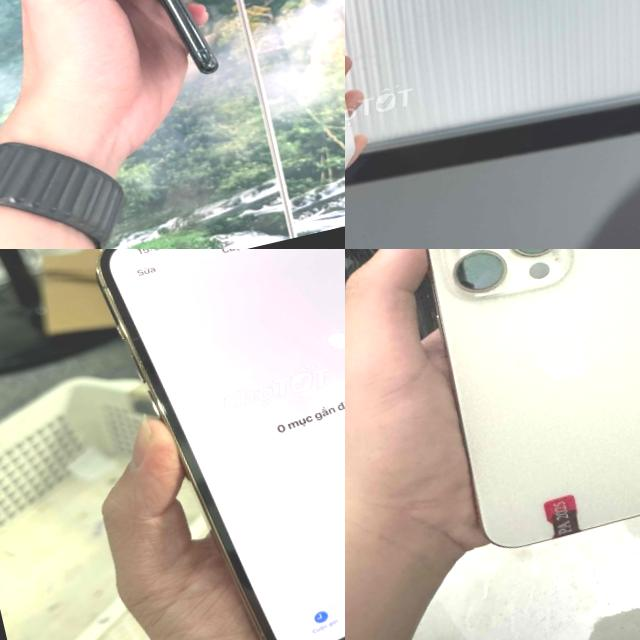gen_11: (51, 0, 229, 97)
gen_12_13: (81, 249, 345, 640)
gen_16: (427, 249, 640, 547)
